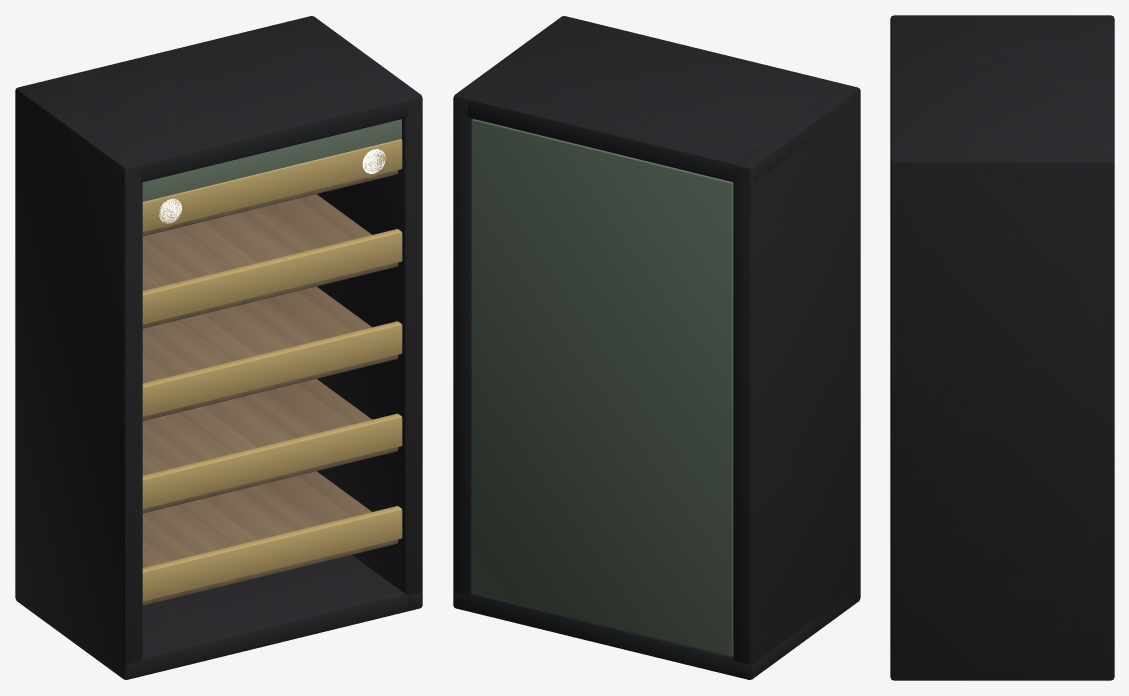
The model's file is pf_display_impulse_shelf_t3.glb.
3 renders of one model, left to right at view 1: azimuth 30°, elevation 25°; view 2: azimuth 150°, elevation 25°; view 3: azimuth 270°, elevation 25°, orthographic.
Parts seen in each view (by area): view 1: Case_Left, Case_Top, Case_Right, Case_Base, Shelf_01, Shelf_04, Shelf_02, Shelf_03, Shelf_Lip_02, Shelf_Lip_01, Shelf_Lip_03, Shelf_Lip_04 (+3 smaller); view 2: Case_Back, Case_Left, Case_Top, Case_Right, Case_Base; view 3: Case_Right, Case_Top.
Boxes of the visible parts, x1=… form: Case_Left: x1=15, y1=90, x2=142, y2=679; Case_Top: x1=15, y1=16, x2=422, y2=183; Case_Right: x1=317, y1=95, x2=422, y2=611; Case_Base: x1=15, y1=555, x2=422, y2=679; Shelf_01: x1=142, y1=471, x2=398, y2=605; Shelf_04: x1=142, y1=194, x2=398, y2=328; Shelf_02: x1=142, y1=379, x2=398, y2=513; Shelf_03: x1=142, y1=286, x2=398, y2=420; Shelf_Lip_02: x1=142, y1=413, x2=402, y2=509; Shelf_Lip_01: x1=142, y1=506, x2=402, y2=601; Shelf_Lip_03: x1=142, y1=321, x2=402, y2=416; Shelf_Lip_04: x1=142, y1=229, x2=402, y2=324; Case_Back: x1=471, y1=119, x2=733, y2=656; Case_Left: x1=733, y1=89, x2=860, y2=679; Case_Top: x1=453, y1=16, x2=860, y2=182; Case_Right: x1=453, y1=95, x2=472, y2=610; Case_Base: x1=453, y1=584, x2=860, y2=676; Case_Right: x1=890, y1=154, x2=1114, y2=680; Case_Top: x1=890, y1=15, x2=1114, y2=178.
Size of the model in its own units: 0.78 by 1.28 by 0.5.
6 materials, 2 textured.
